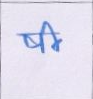i_matra: (44, 21, 61, 51)
